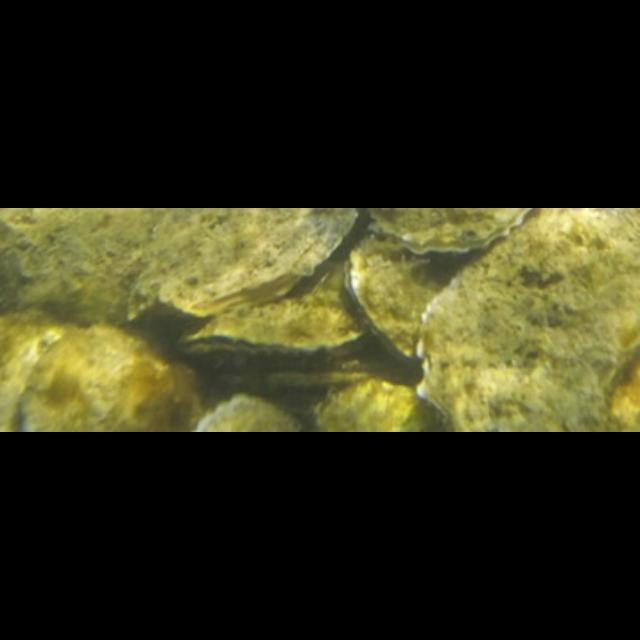Oyster-Closed: (415, 208, 639, 431), (129, 208, 362, 325), (0, 208, 178, 328), (12, 327, 205, 431), (342, 231, 483, 370), (0, 309, 86, 431), (321, 378, 438, 431), (190, 392, 299, 431), (610, 354, 639, 431)
Oyster-Open: (179, 228, 368, 354), (369, 208, 530, 256)
